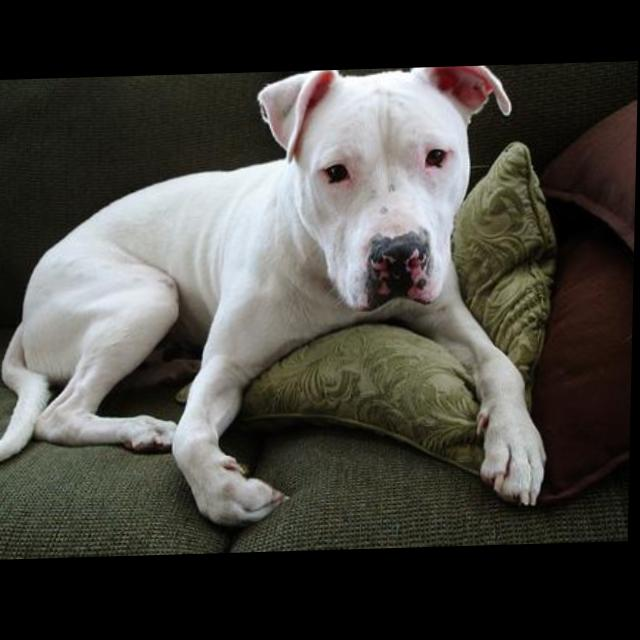amstaff: (1, 68, 560, 537)
